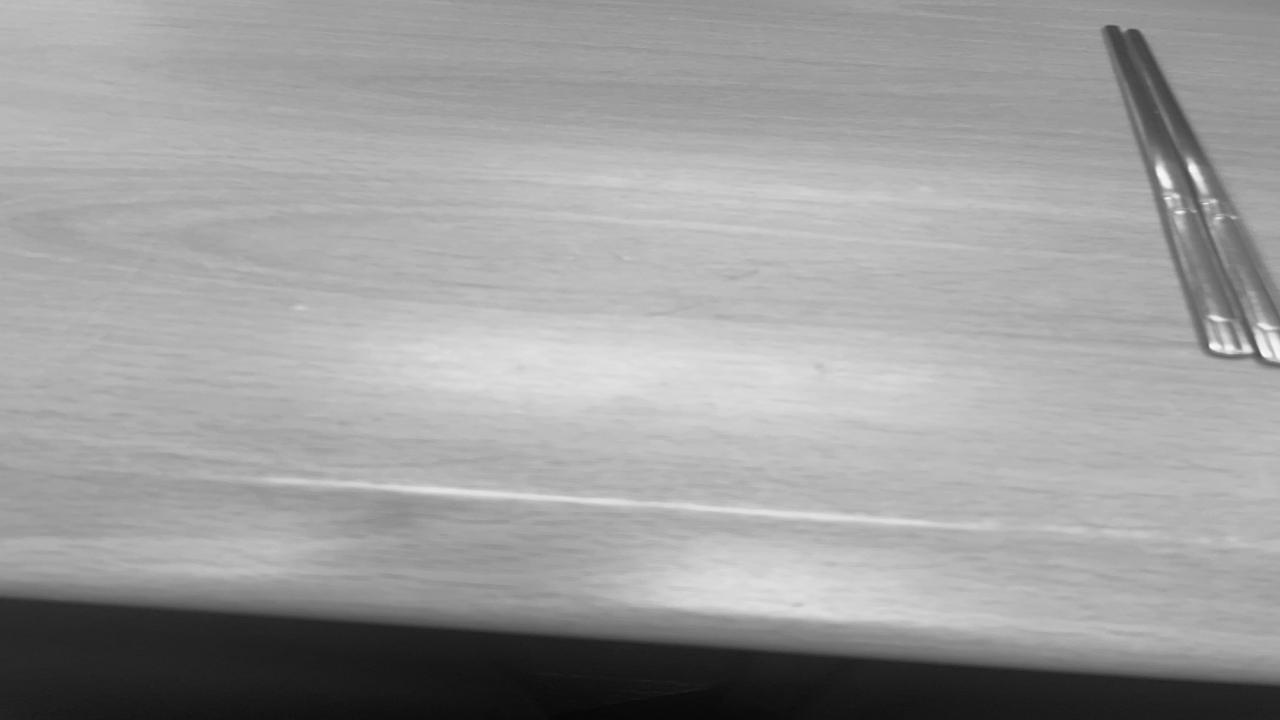chopstick: (1105, 29, 1276, 358)
